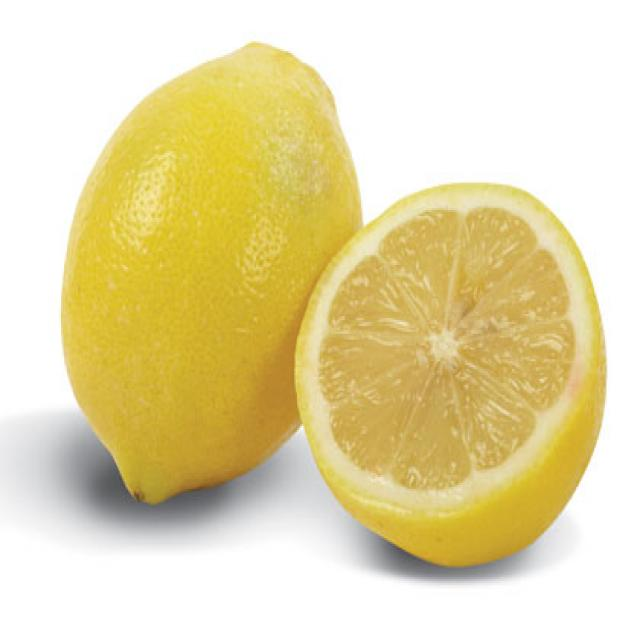lemon: (58, 41, 302, 507), (334, 176, 612, 572)
